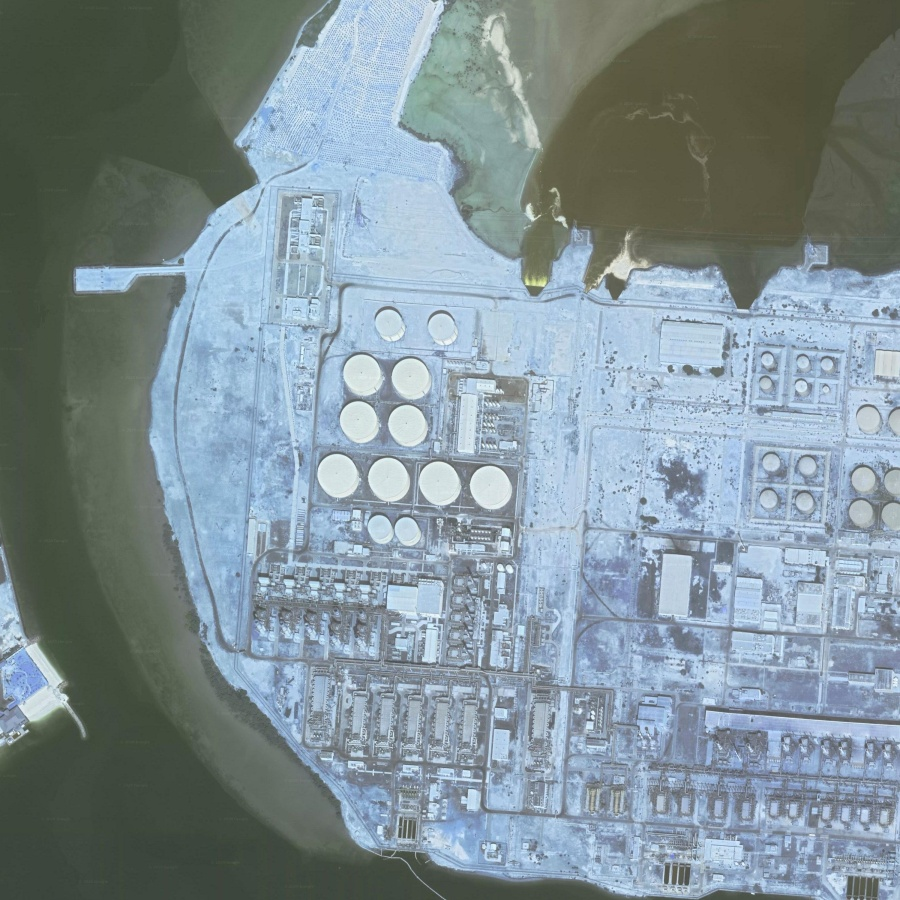PowerPlant: (245, 294, 545, 683)
